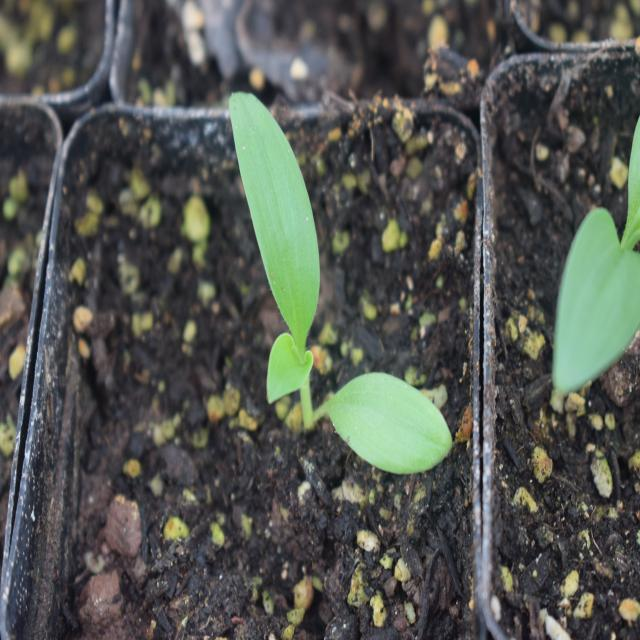Common Dayflower: (235, 64, 425, 526)
